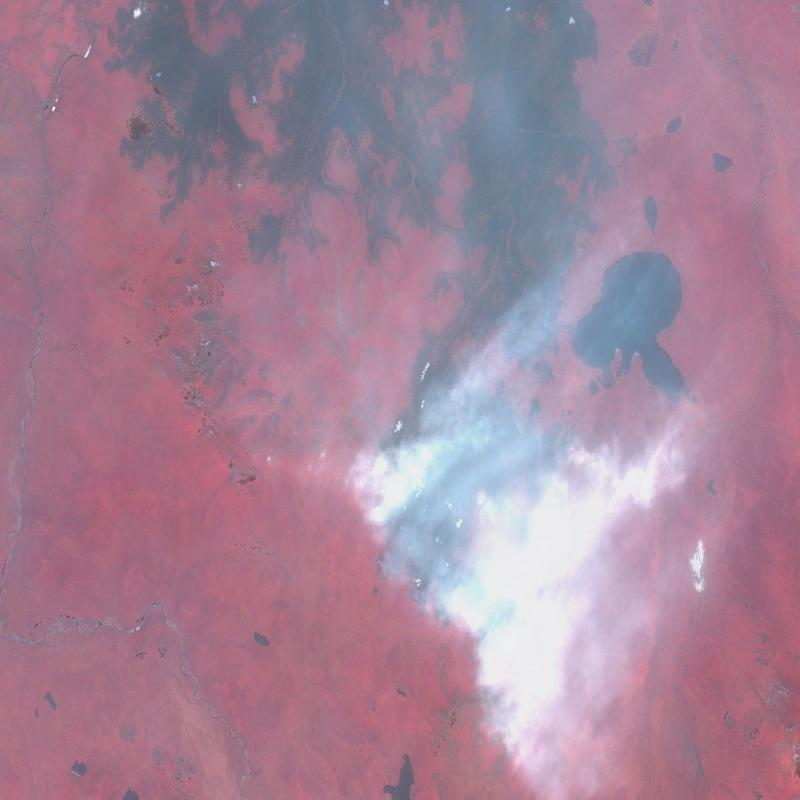fire: (365, 398, 576, 669)
